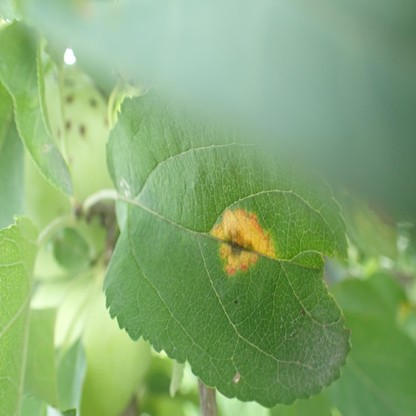rust: (213, 209, 272, 272)
